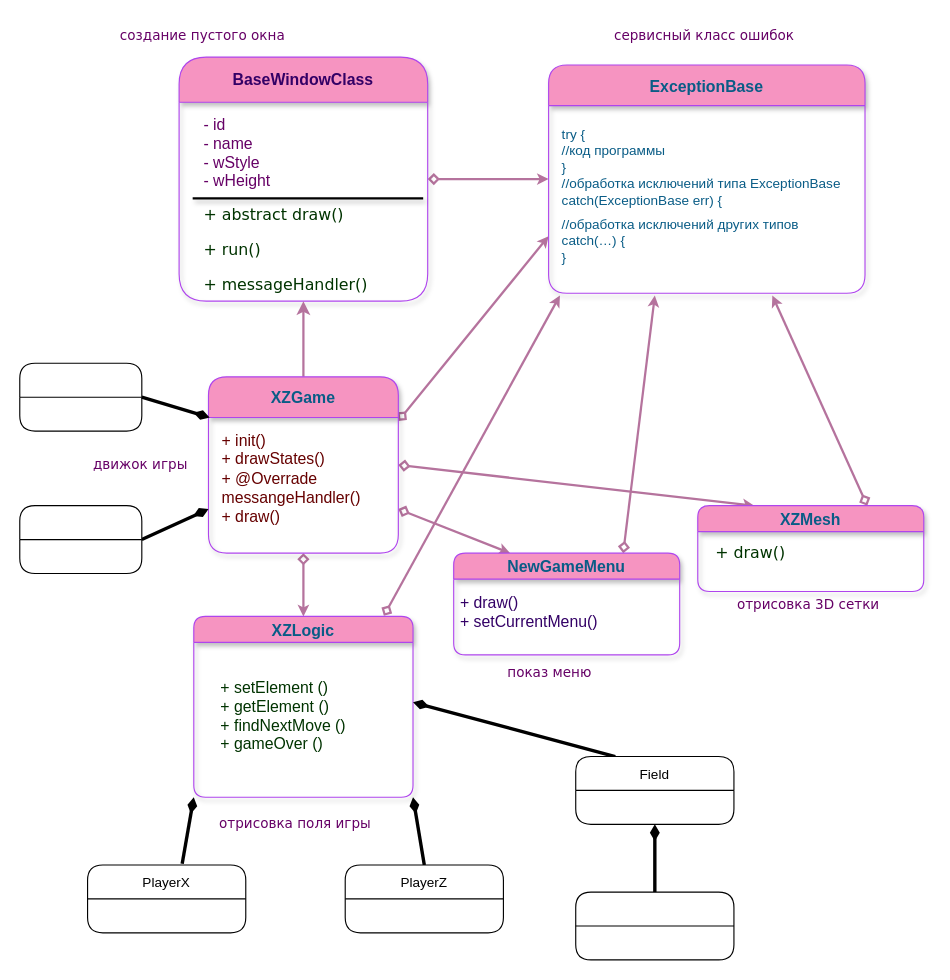
Image size: 950x980. Some labels were removed from this diagram. Here are the shapes that lost their labels. From the top down, the centre of each, then its label:
At point 80,396: "Input".
At point 80,539: "Output".
At point 654,925: "Cell".
